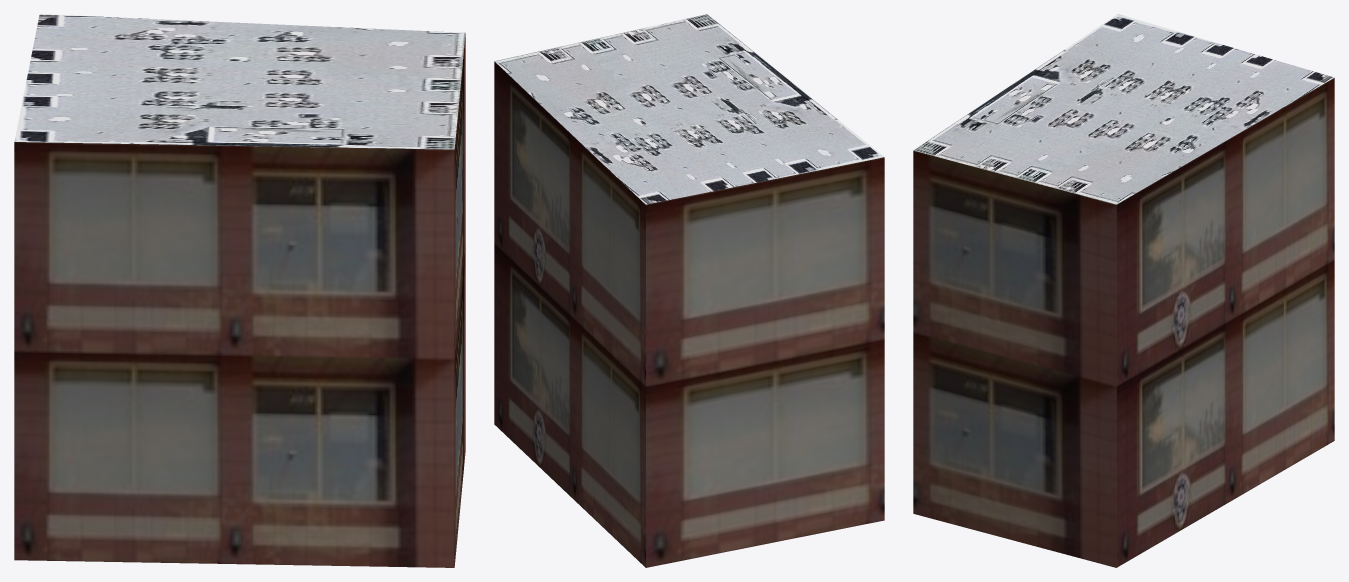
Rendered from ResTex__5250.fbx.
3 renders of one model, left to right at view 1: azimuth 30°, elevation 25°; view 2: azimuth 150°, elevation 25°; view 3: azimuth 270°, elevation 25°, orthographic. The views are drawn at different scales.
Parts seen in each view (by area): view 1: CityEngineMaterial_13_m, CityEngineMaterial_4_m; view 2: CityEngineMaterial_13_m, CityEngineMaterial_4_m; view 3: CityEngineMaterial_13_m, CityEngineMaterial_4_m.
Part boxes in pixels (bbox=[...]): CityEngineMaterial_13_m: bbox=[14, 34, 465, 567]; CityEngineMaterial_4_m: bbox=[14, 14, 465, 149]; CityEngineMaterial_13_m: bbox=[494, 61, 884, 567]; CityEngineMaterial_4_m: bbox=[495, 14, 883, 204]; CityEngineMaterial_13_m: bbox=[913, 78, 1334, 567]; CityEngineMaterial_4_m: bbox=[913, 14, 1334, 204].
Bounding box in the file's own units: 6.76 × 6 × 6.31.
Materials: 2 (2 with a texture image).
